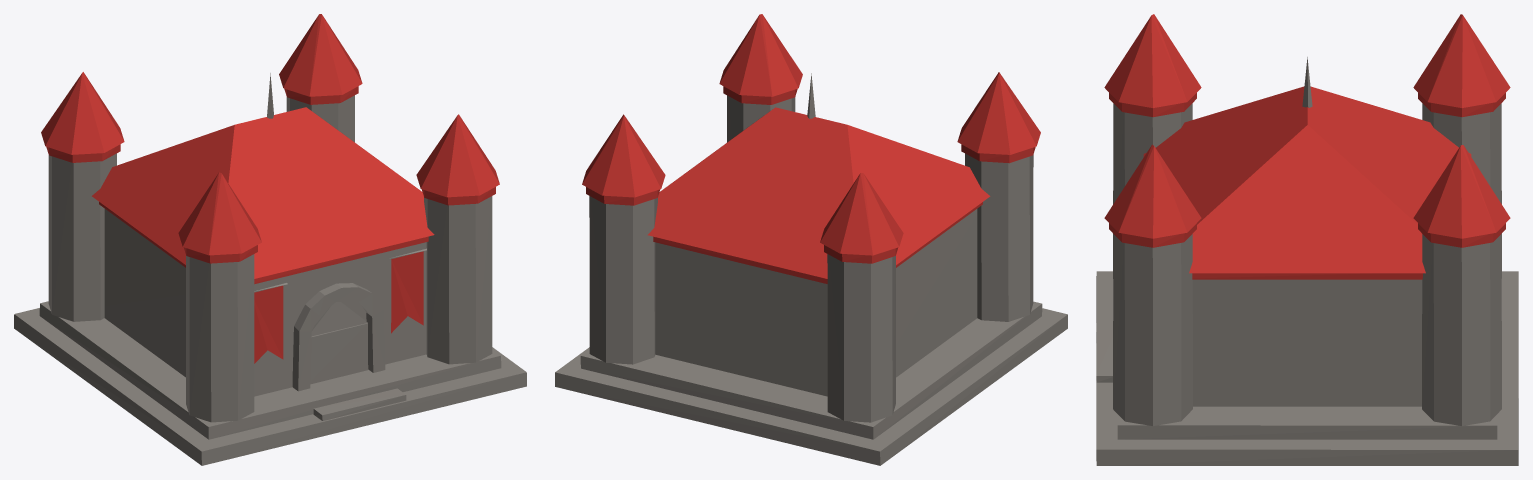
Rendered from command_center_crimson_lod1.obj.
3 renders of one model, left to right at view 1: azimuth 30°, elevation 25°; view 2: azimuth 150°, elevation 25°; view 3: azimuth 270°, elevation 25°, orthographic. The views are drawn at different scales.
Visible parts, largest first — view 1: command_center_crimson_lod1; view 2: command_center_crimson_lod1; view 3: command_center_crimson_lod1.
Part boxes in pixels (box(x1,y1,x2,y2)): command_center_crimson_lod1: box(14, 14, 526, 465); command_center_crimson_lod1: box(555, 14, 1067, 465); command_center_crimson_lod1: box(1096, 14, 1518, 465).
Bounding box in the file's own units: 9.98 × 8.35 × 9.98.
